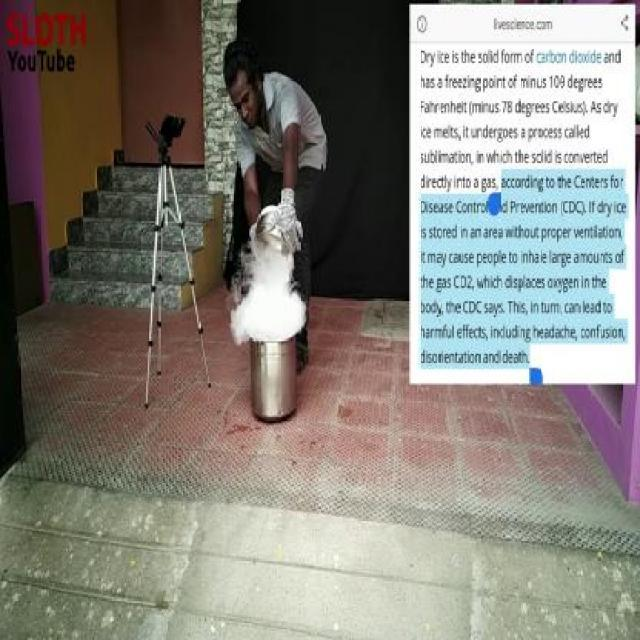smoke: (222, 240, 310, 352)
